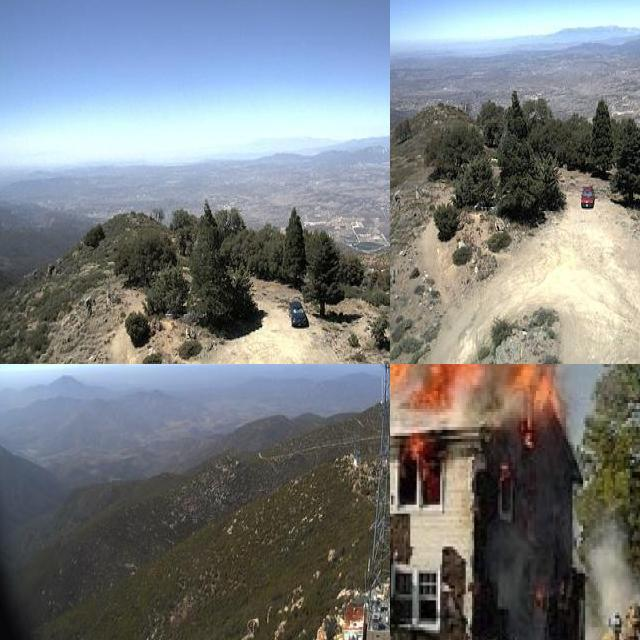fire: (390, 364, 563, 417)
smoke: (574, 525, 634, 640)
